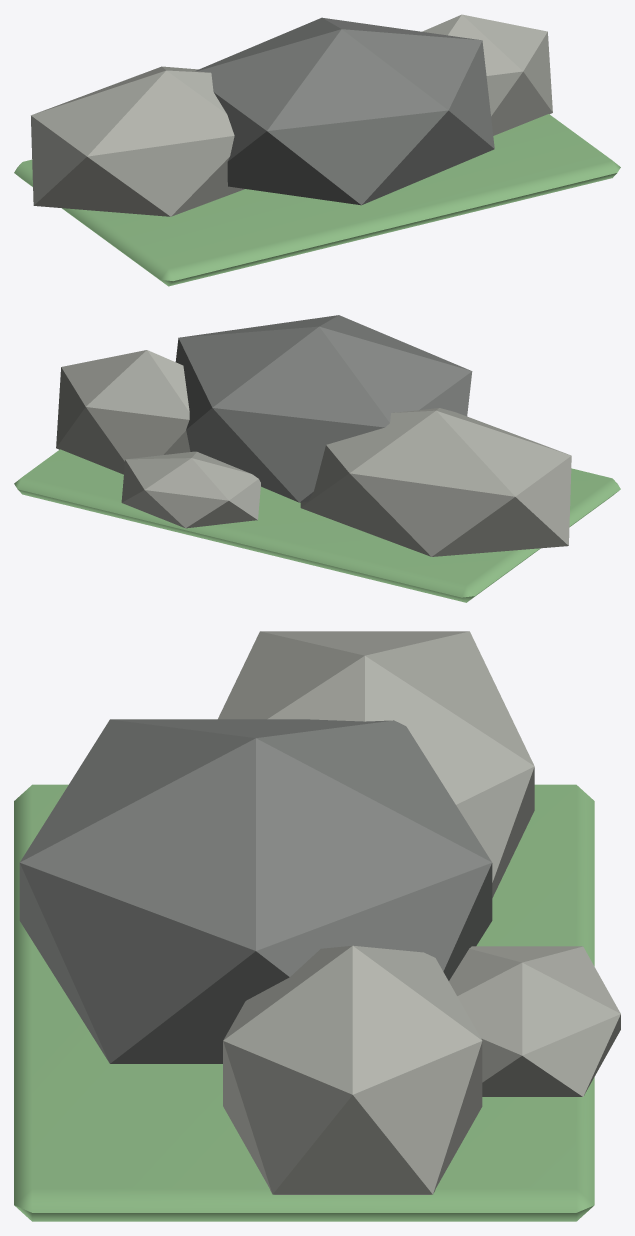
Rendered from MYB96_RoadsideRockCluster.fbx.
3 renders of one model, top to bottom at view 1: azimuth 30°, elevation 25°; view 2: azimuth 150°, elevation 25°; view 3: azimuth 270°, elevation 25°, orthographic. The views are drawn at different scales.
Visible parts, largest first — view 1: roadside_rock_1, ground_shadow, roadside_rock_0, roadside_rock_2; view 2: roadside_rock_1, roadside_rock_0, ground_shadow, roadside_rock_2, roadside_rock_3; view 3: roadside_rock_1, ground_shadow, roadside_rock_2, roadside_rock_0, roadside_rock_3.
Part boxes in pixels (x1,y1,x2,y2): roadside_rock_1: [195, 17, 494, 205]; ground_shadow: [14, 114, 620, 286]; roadside_rock_0: [31, 66, 244, 216]; roadside_rock_2: [422, 14, 552, 135]; roadside_rock_1: [175, 315, 472, 502]; roadside_rock_0: [300, 408, 571, 556]; ground_shadow: [14, 449, 620, 602]; roadside_rock_2: [56, 350, 190, 474]; roadside_rock_3: [121, 451, 260, 528]; roadside_rock_1: [19, 719, 492, 1063]; ground_shadow: [14, 784, 594, 1221]; roadside_rock_2: [223, 945, 482, 1194]; roadside_rock_0: [218, 631, 534, 897]; roadside_rock_3: [449, 946, 620, 1096].
Bounding box in the file's own units: 90.91 × 30.2 × 50.17.
